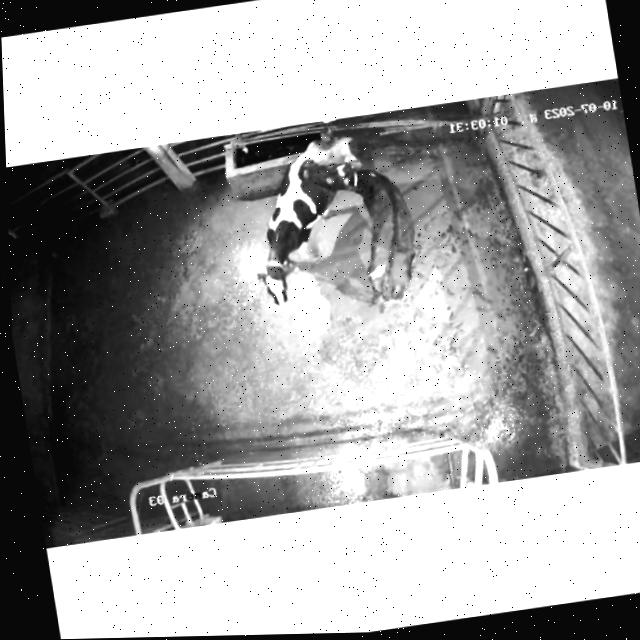propping: (274, 149, 371, 208)
